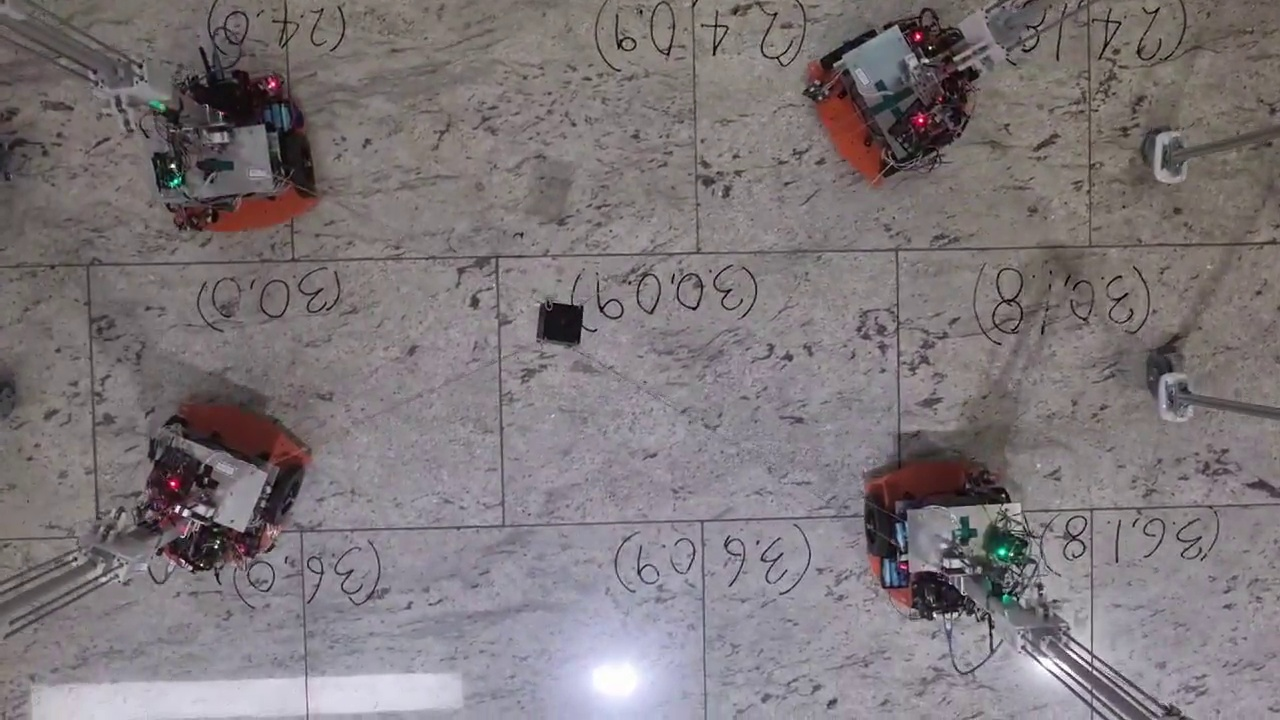e0: (535, 303, 584, 343)
r1: (864, 489, 1014, 556)
r2: (817, 30, 945, 176)
r3: (163, 135, 318, 214)
r4: (146, 412, 305, 524)
y_+_axis_vector: (697, 246, 1088, 253)
y_-_axis_vector: (293, 254, 698, 260)
